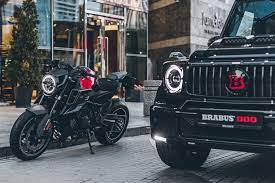Car: (150, 0, 275, 168)
Motorbike: (10, 65, 139, 160)
